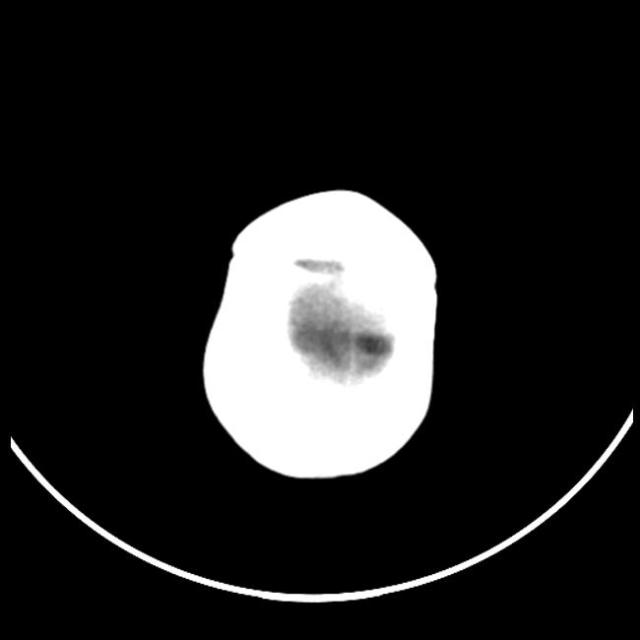lesion: (3, 402, 638, 608), (199, 186, 441, 481)
